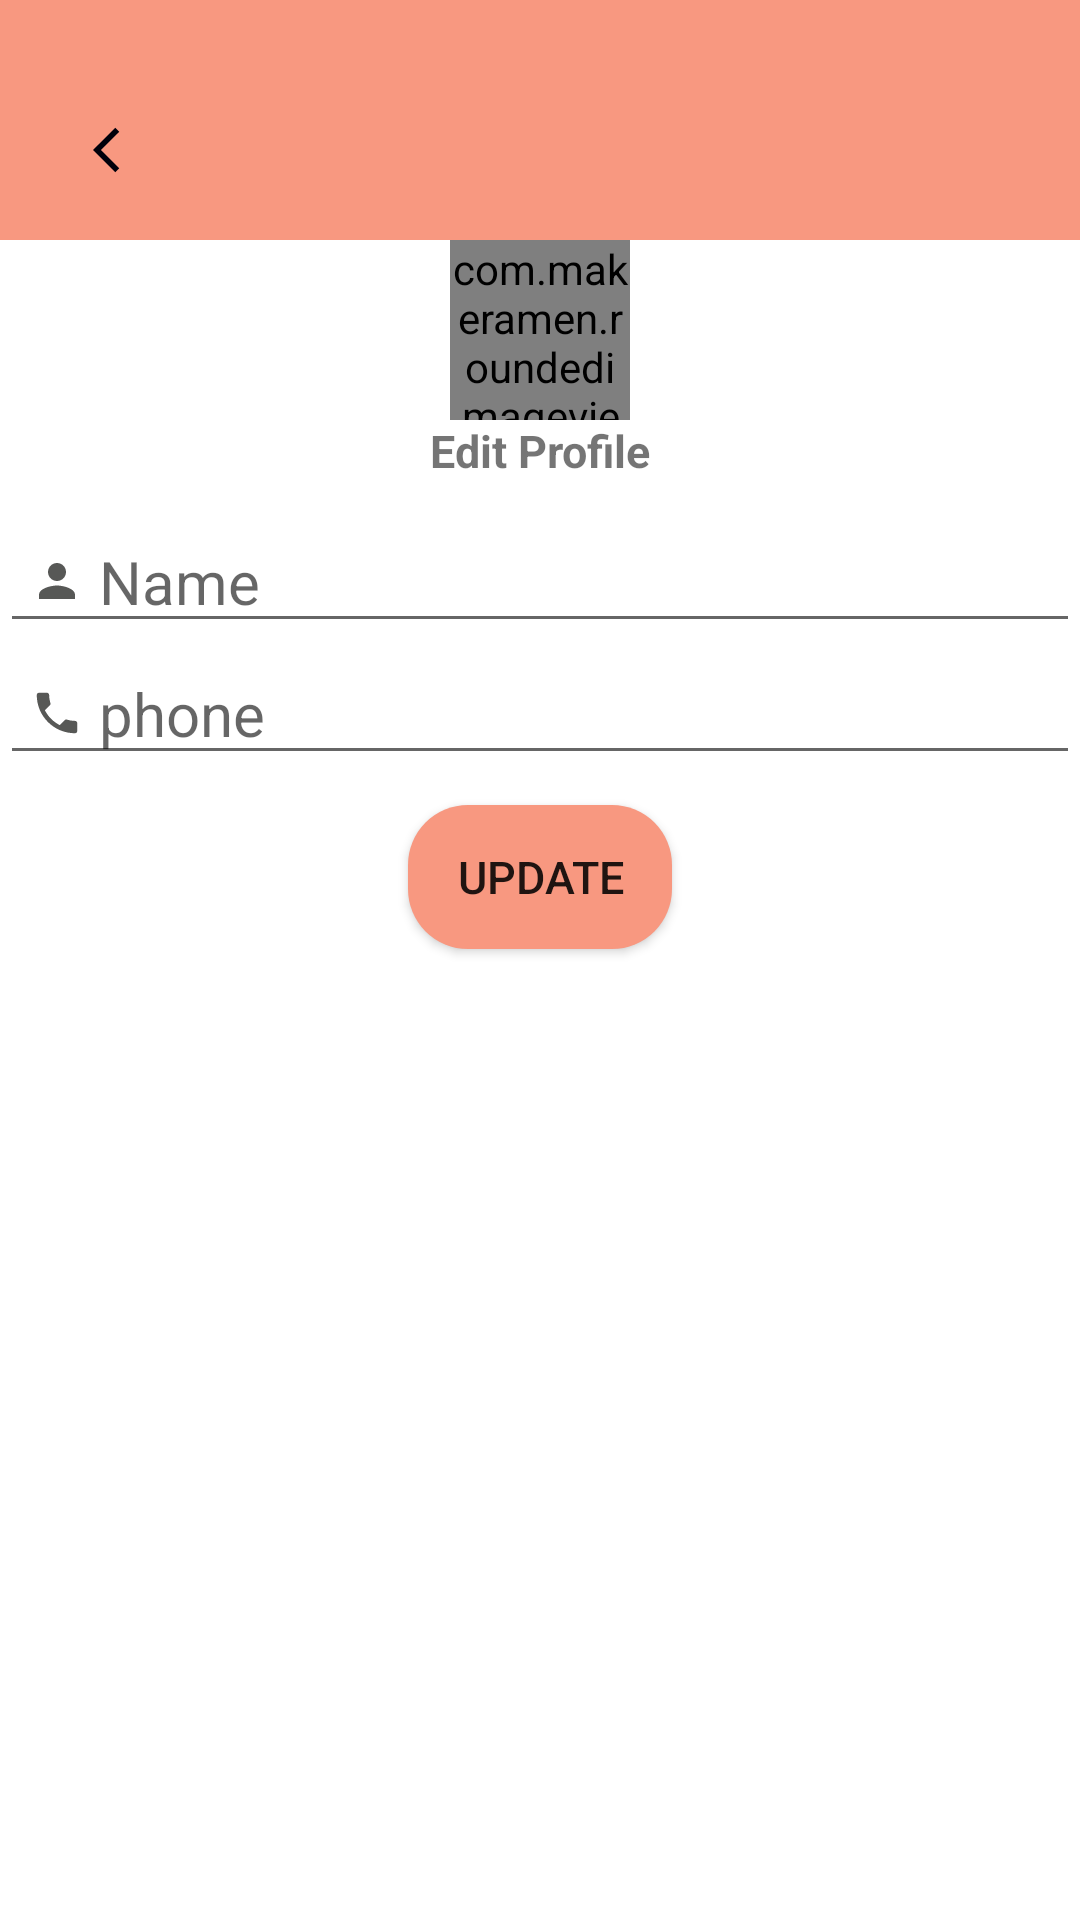

Screen size 1080px x 1920px. Icon name, then its center in pixels as (x,y):
back: (106,150)
